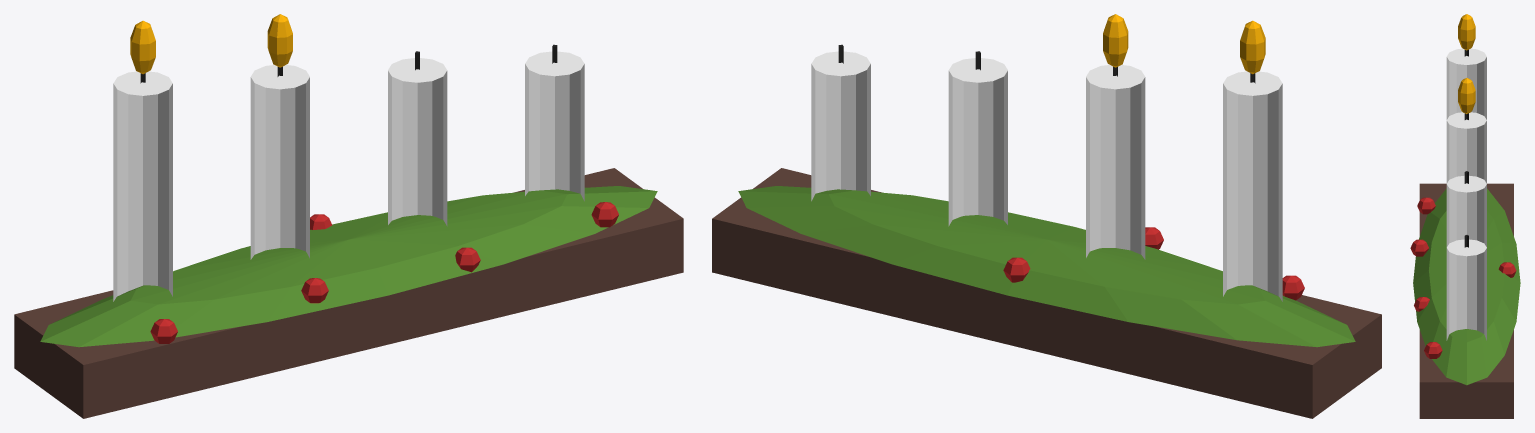
The model's file is adventsljus.glb.
The picture shows the model from 3 angles, left to right: view 1: azimuth 30°, elevation 25°; view 2: azimuth 150°, elevation 25°; view 3: azimuth 270°, elevation 25°; orthographic projection. The views are drawn at different scales.
Parts seen in each view (by area): view 1: adventsljus; view 2: adventsljus; view 3: adventsljus.
Part boxes in pixels (<box>): adventsljus: <box>14,14,683,418</box>; adventsljus: <box>712,14,1381,418</box>; adventsljus: <box>1410,14,1520,418</box>.
Size of the model in its own units: 0.72 by 0.39 by 0.164.
